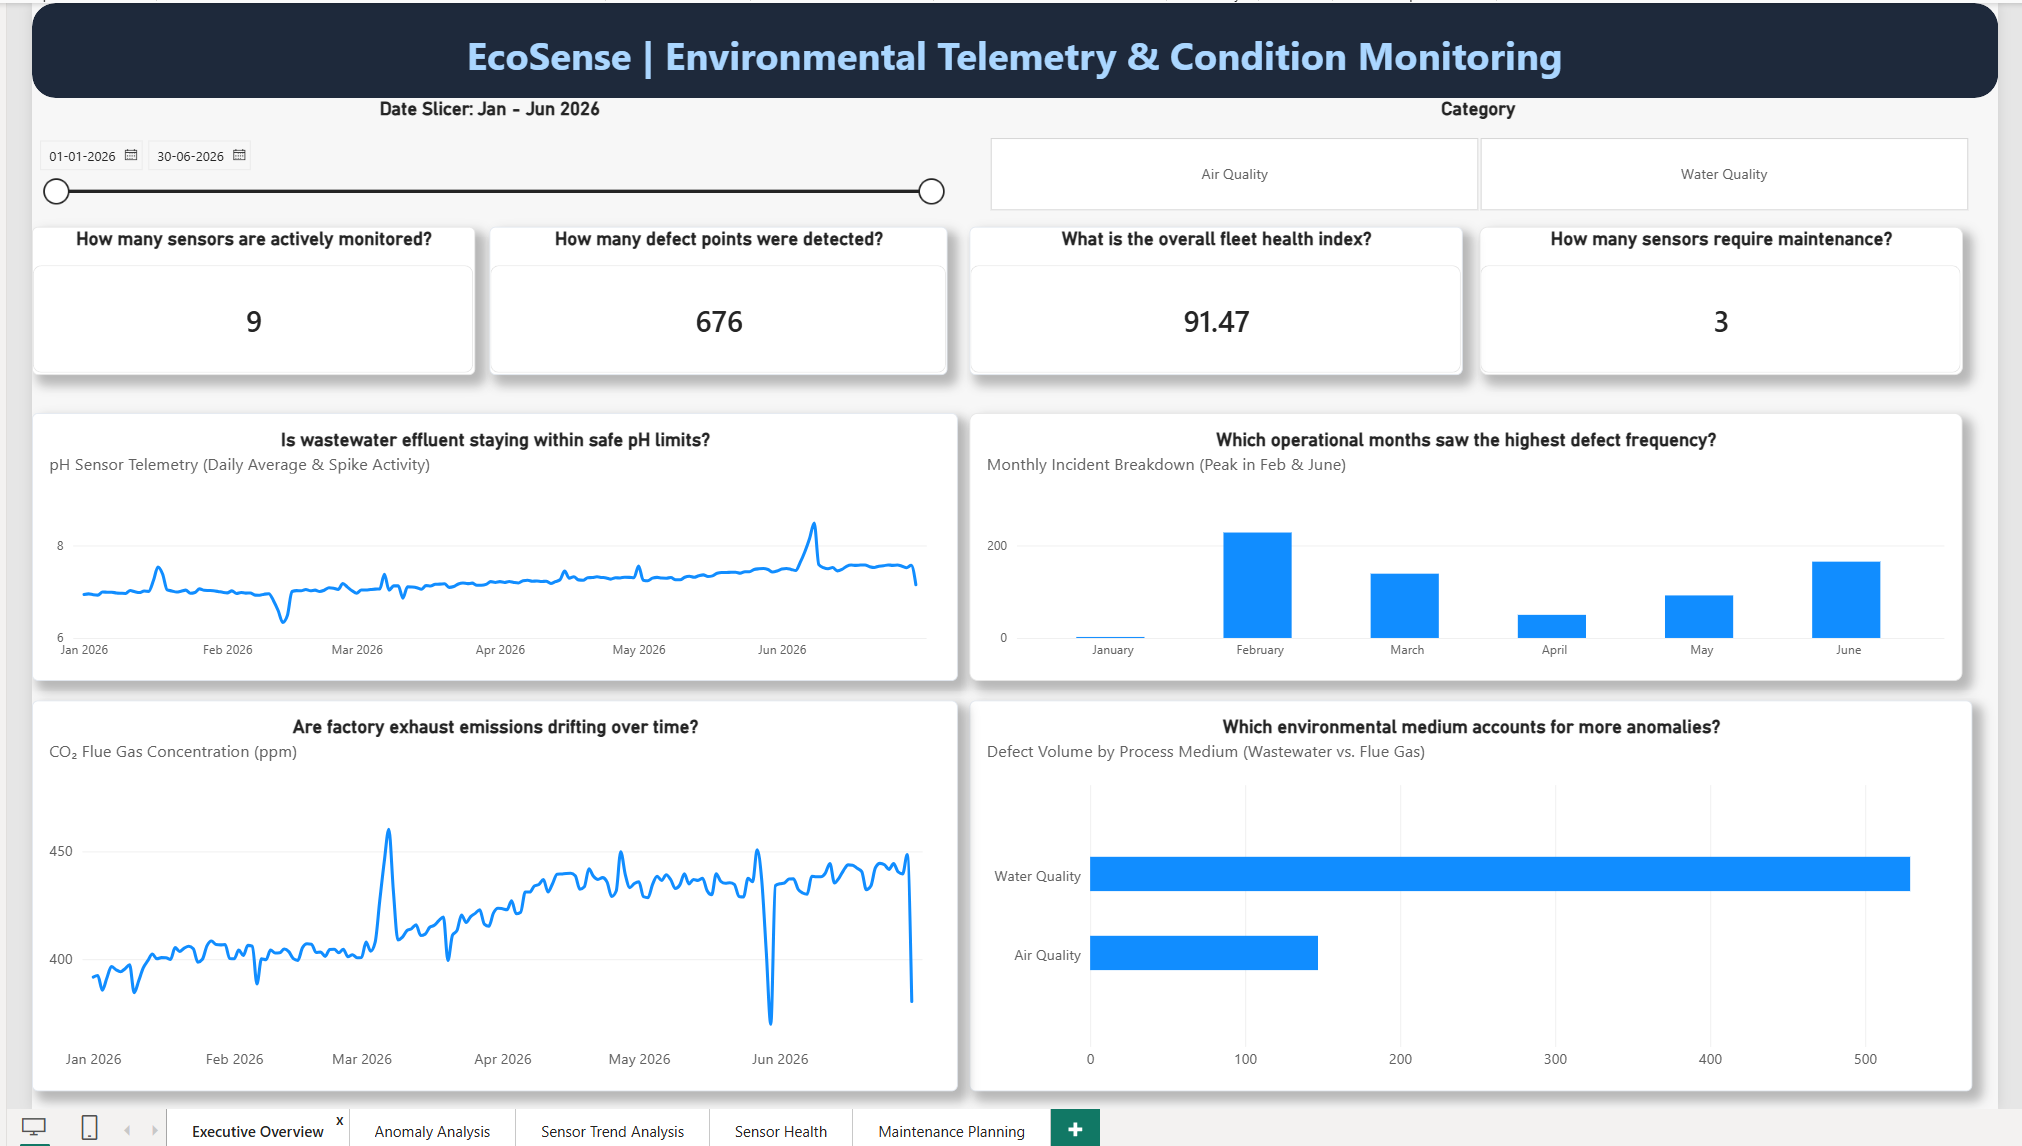

This screenshot's page, from the dashboard's own definition file:
{"tool":"powerbi","page":{"name":"Executive Overview","canvas":[1920,1080],"ordinal":0},"visuals":[{"type":"cardVisual","title":"How many sensors are actively monitored?","fields":{"Data":["CountNonNull(sensor_trends.Sensors Monitored)"]},"box":[0,218.5,432.6,144.7],"z":0},{"type":"cardVisual","title":"How many defect points were detected?","fields":{"Data":["detected_anomalies.Detected Anomaly Records"]},"box":[447.1,218.5,447.1,144.7],"z":1000},{"type":"lineChart","title":"Is wastewater effluent staying within safe pH limits?","fields":{"Category":["Date.Date"],"Y":["Avg(water_quality.pH)"]},"box":[0,400.8,904.3,261.9],"z":2000},{"type":"clusteredColumnChart","title":"Which operational months saw the highest defect frequency?","fields":{"Category":["Date.Date.Variation.Date Hierarchy.Month"],"Y":["detected_anomalies.Detected Anomaly Records"]},"box":[915.9,400.8,969.4,261.9],"z":3000},{"type":"clusteredBarChart","title":"Which environmental medium accounts for more anomalies?","fields":{"Category":["DimCategory.Category"],"Y":["detected_anomalies.Detected Anomaly Records"]},"box":[915.9,681.5,979.5,382],"z":4000},{"type":"slicer","title":"Date Slicer: Jan - Jun 2026","fields":{"Values":["Date.Date"]},"box":[0,92.6,894.2,137.5],"z":5000},{"type":"slicer","title":"Category","fields":{"Values":["DimCategory.Category"]},"box":[915.9,92.6,994,111.4],"z":6000},{"type":"lineChart","title":"Are factory exhaust emissions drifting over time?","fields":{"Category":["Date.Date"],"Y":["Avg(air_quality.co2_ppm)"]},"box":[0,681.5,904.3,382],"z":7000},{"type":"group","id":"g1","title":"Title","box":[0,0,1920,92.8],"z":8000},{"type":"cardVisual","title":"How many sensors require maintenance?","fields":{"Data":["Count(sensor_trends.sensor)"]},"box":[1413.6,218.5,471.7,144.7],"z":9000},{"type":"shape","box":[0,0,1920,92.8],"z":10000,"group":"g1"},{"type":"cardVisual","title":"What is the overall fleet health index?","fields":{"Data":["Avg(sensor_trends.current_health)"]},"box":[915.9,218.5,481.8,144.7],"z":10000},{"type":"textbox","box":[10.1,25.7,1899.8,54.2],"z":10500,"group":"g1"}]}

Visuals, with their boxes on the page's 1920x1080 design canvas (x1, y1, x2, y2). These are canvas units, not pixel positions in the 2022x1146 screenshot, which may show the page scaled, cropped or inside an application window:
"How many sensors are actively monitored?" cardVisual: region(0, 218, 433, 363)
"How many defect points were detected?" cardVisual: region(447, 218, 894, 363)
"Is wastewater effluent staying within safe pH limits?" lineChart: region(0, 401, 904, 663)
"Which operational months saw the highest defect frequency?" clusteredColumnChart: region(916, 401, 1885, 663)
"Which environmental medium accounts for more anomalies?" clusteredBarChart: region(916, 682, 1895, 1064)
"Date Slicer: Jan - Jun 2026" slicer: region(0, 93, 894, 230)
"Category" slicer: region(916, 93, 1910, 204)
"Are factory exhaust emissions drifting over time?" lineChart: region(0, 682, 904, 1064)
"Title" group: region(0, 0, 1920, 93)
"How many sensors require maintenance?" cardVisual: region(1414, 218, 1885, 363)
shape: region(0, 0, 1920, 93)
"What is the overall fleet health index?" cardVisual: region(916, 218, 1398, 363)
textbox: region(10, 26, 1910, 80)
